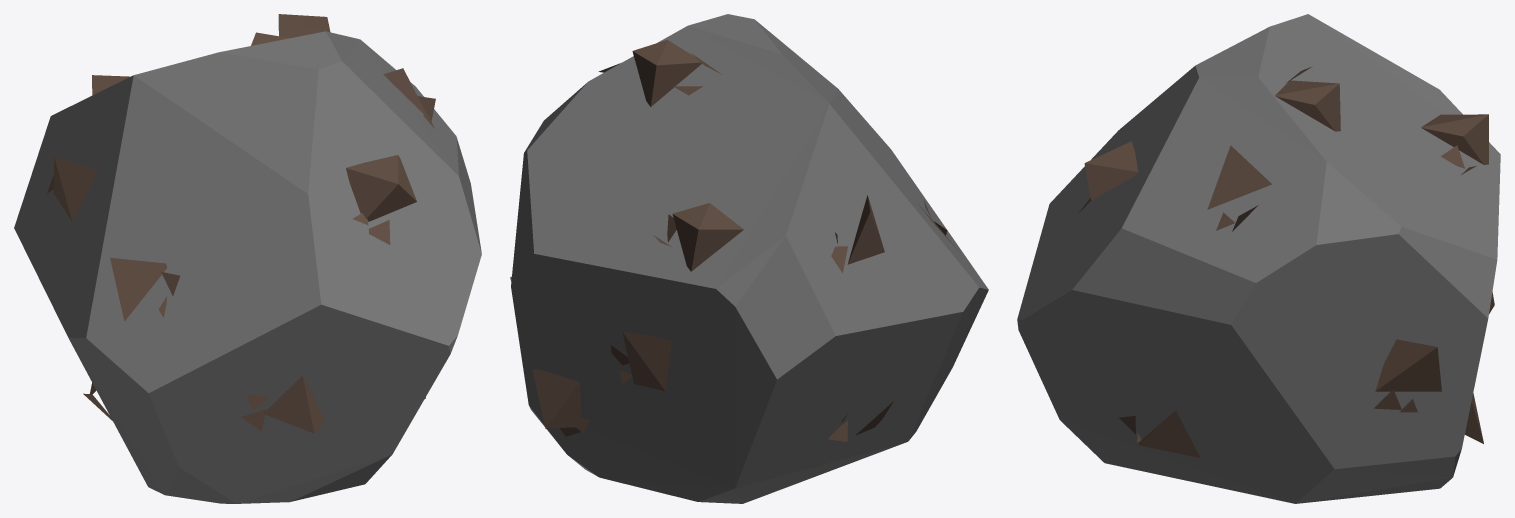
File: SM_Ore_001_LOD3.fbx
The picture shows the model from 3 angles, left to right: view 1: azimuth 30°, elevation 25°; view 2: azimuth 150°, elevation 25°; view 3: azimuth 270°, elevation 25°; orthographic projection. The views are drawn at different scales.
Visible parts, largest first — view 1: Cube.001, Cube; view 2: Cube.001, Cube; view 3: Cube.001, Cube.
Boxes of the visible parts, x1,y1,x2,y2 form: Cube.001: [14, 31, 481, 503]; Cube: [47, 14, 435, 433]; Cube.001: [511, 14, 988, 503]; Cube: [510, 40, 960, 441]; Cube.001: [1017, 14, 1500, 503]; Cube: [1078, 66, 1494, 458].
Bounding box in the file's own units: 114 × 106 × 115.
